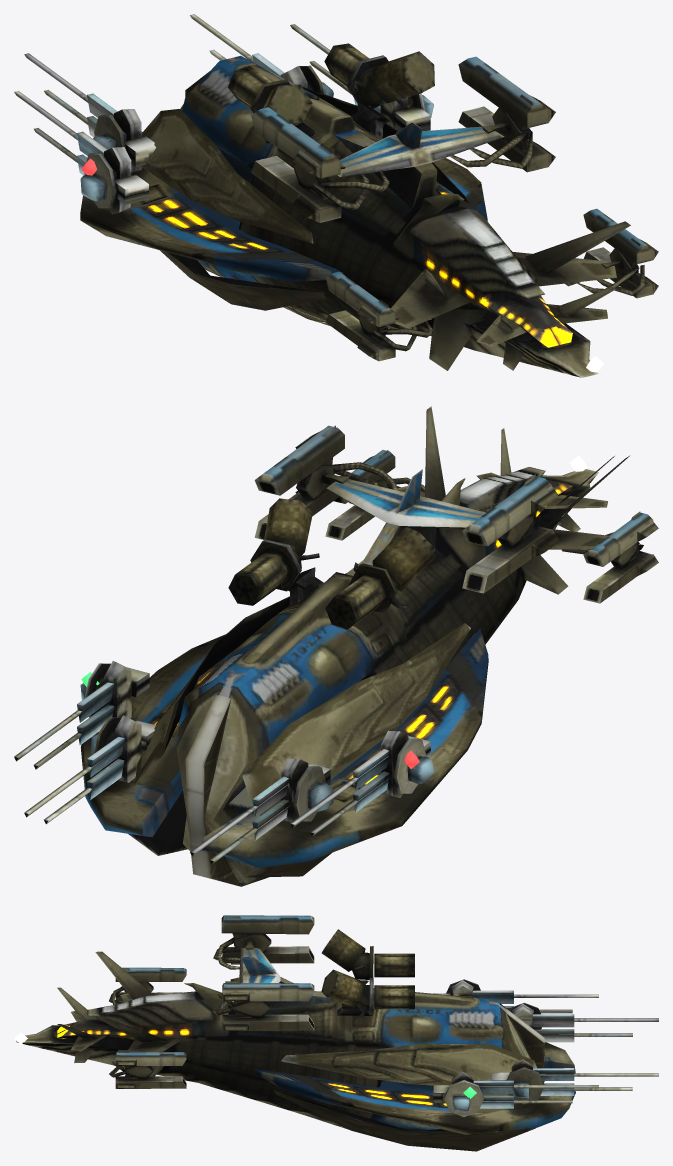
File: century-falcon.glb
The picture shows the model from 3 angles, top to bottom: view 1: azimuth 30°, elevation 25°; view 2: azimuth 150°, elevation 25°; view 3: azimuth 270°, elevation 25°; orthographic projection. The views are drawn at different scales.
Visible parts, largest first — view 1: century_falcon; view 2: century_falcon; view 3: century_falcon.
Part boxes in pixels (box(x1,y1,x2,y2)): century_falcon: box(14, 14, 658, 377); century_falcon: box(14, 406, 658, 886); century_falcon: box(16, 915, 658, 1151).
Bounding box in the file's own units: 2.75 × 2.21 × 6.53.
4 materials, 1 textured.
